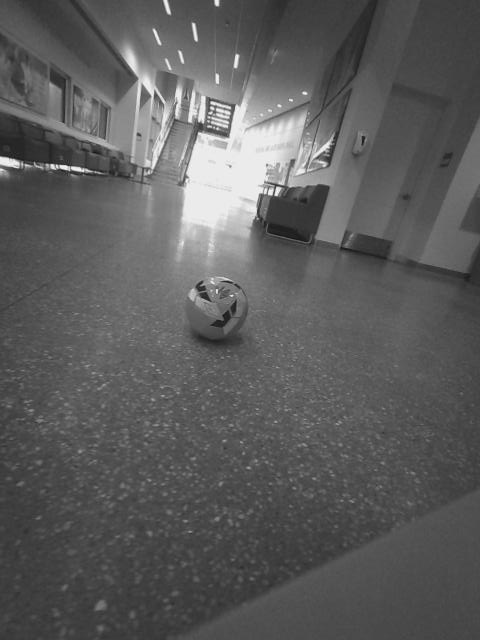ball: (325, 258, 361, 295)
